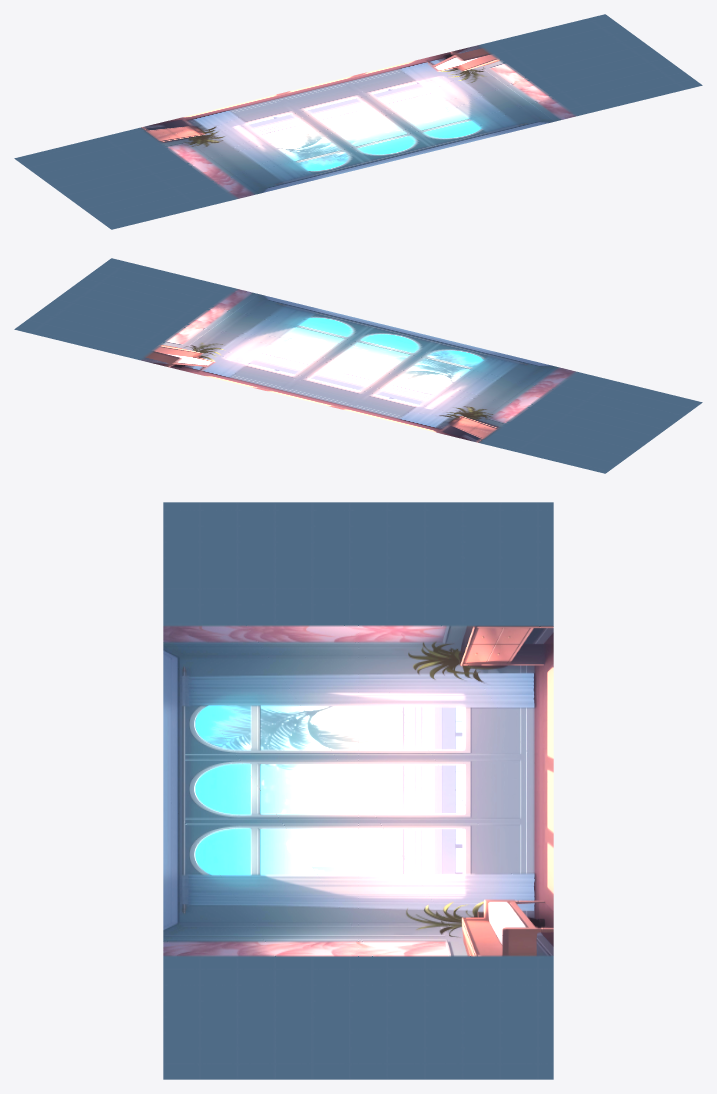
Rendered from prologue-billy.glb.
3 views of the same model, one above another, from view 1: azimuth 30°, elevation 25°; view 2: azimuth 150°, elevation 25°; view 3: azimuth 270°, elevation 25° (orthographic). The views are drawn at different scales.
Parts seen in each view (by area): view 1: 01; view 2: 01; view 3: 01.
Boxes of the visible parts, box(x1,y1,x2,y2) form: 01: box(14, 14, 702, 229); 01: box(14, 258, 702, 473); 01: box(163, 502, 553, 1079).
Bounding box in the file's own units: 70 × 0 × 20.
16 materials, 16 textured.
